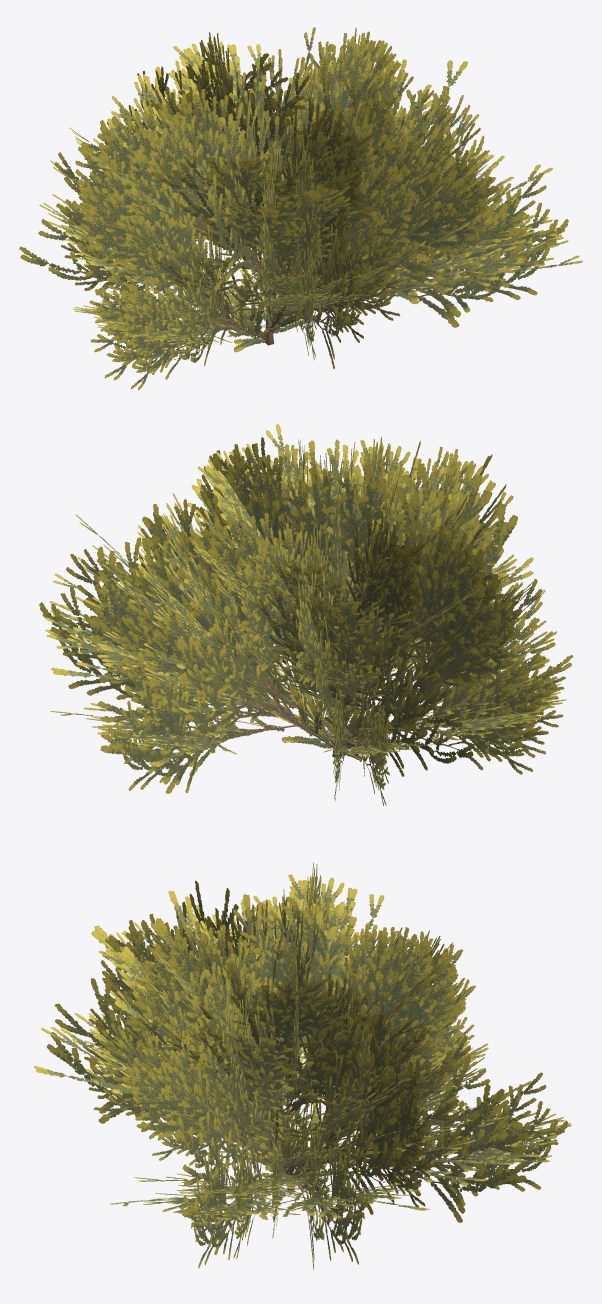
Rendered from SpartiumJunceum.glb.
3 renders of one model, top to bottom at view 1: azimuth 30°, elevation 25°; view 2: azimuth 150°, elevation 25°; view 3: azimuth 270°, elevation 25°, orthographic. The views are drawn at different scales.
Visible parts, largest first — view 1: Spanish_Broom__Realistic_LOD3; view 2: Spanish_Broom__Realistic_LOD3; view 3: Spanish_Broom__Realistic_LOD3.
Boxes of the visible parts, x1,y1,x2,y2 form: Spanish_Broom__Realistic_LOD3: [19, 27, 582, 390]; Spanish_Broom__Realistic_LOD3: [39, 424, 573, 806]; Spanish_Broom__Realistic_LOD3: [34, 862, 571, 1269].
Size of the model in its own units: 5.83 by 3.81 by 5.85.
Materials: 1 (1 with a texture image).
